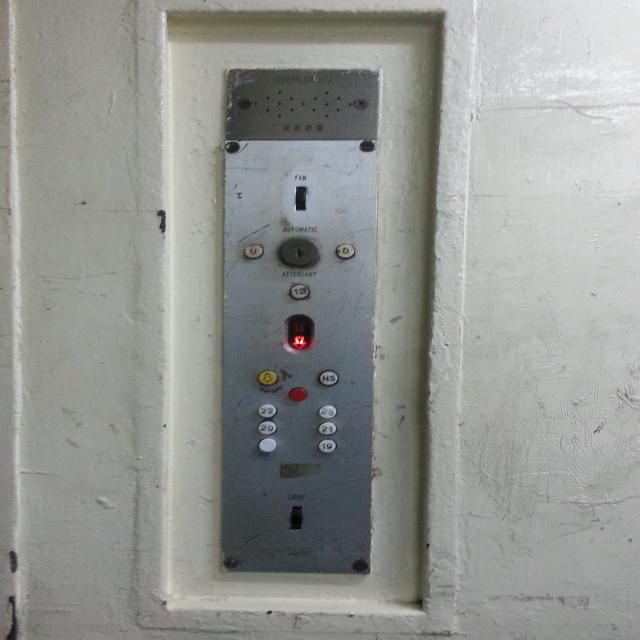12: (288, 283, 310, 301)
19: (317, 438, 337, 453)
20: (257, 420, 277, 435)
21: (317, 421, 337, 435)
22: (257, 403, 277, 419)
23: (317, 404, 337, 419)
D: (334, 242, 357, 261)
NS: (317, 369, 338, 387)
U: (243, 243, 264, 259)
alarm: (257, 368, 278, 386)
empty: (287, 385, 308, 402), (258, 437, 277, 452)
keyhole: (278, 235, 320, 269)
speaker: (220, 65, 382, 143)
unknown: (280, 312, 316, 353)
